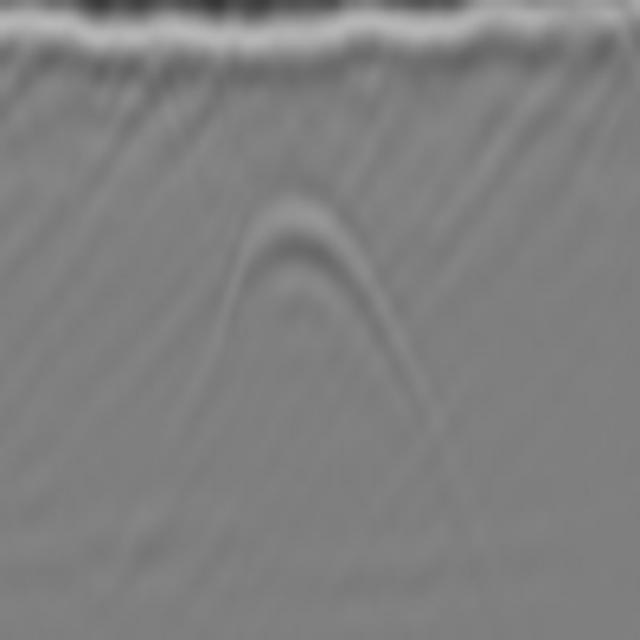hyperbola: (200, 190, 413, 386)
